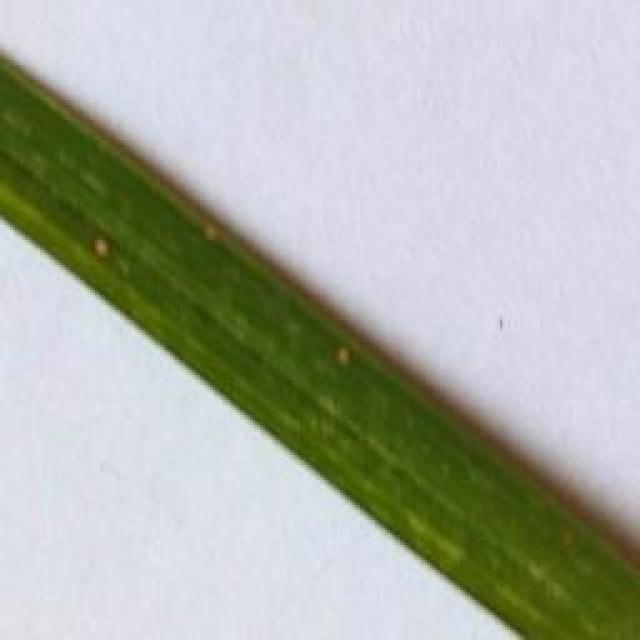Unhealthy: (91, 235, 113, 259), (333, 345, 357, 367), (199, 221, 221, 243)
